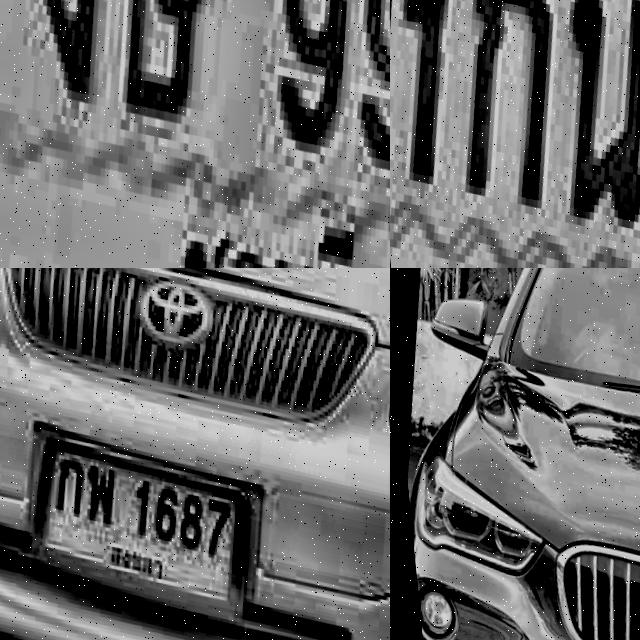license-plate: (0, 0, 390, 268), (390, 0, 640, 268), (0, 412, 279, 640)
